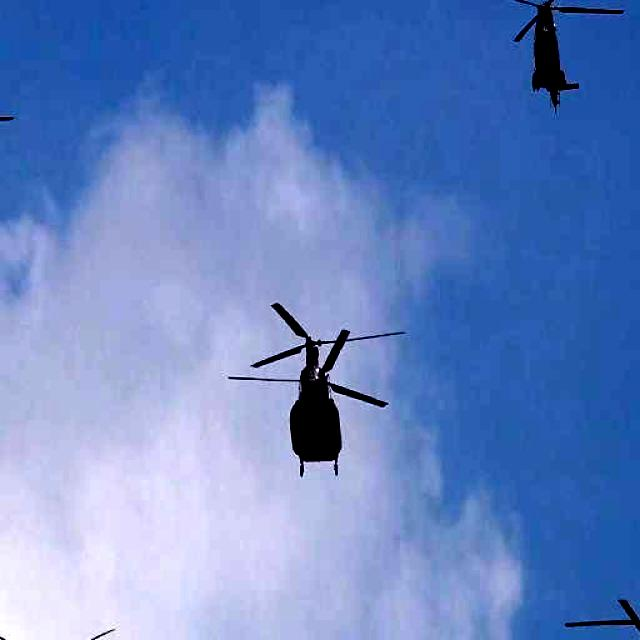drone: (226, 304, 422, 479), (481, 0, 635, 119), (0, 572, 142, 640)
